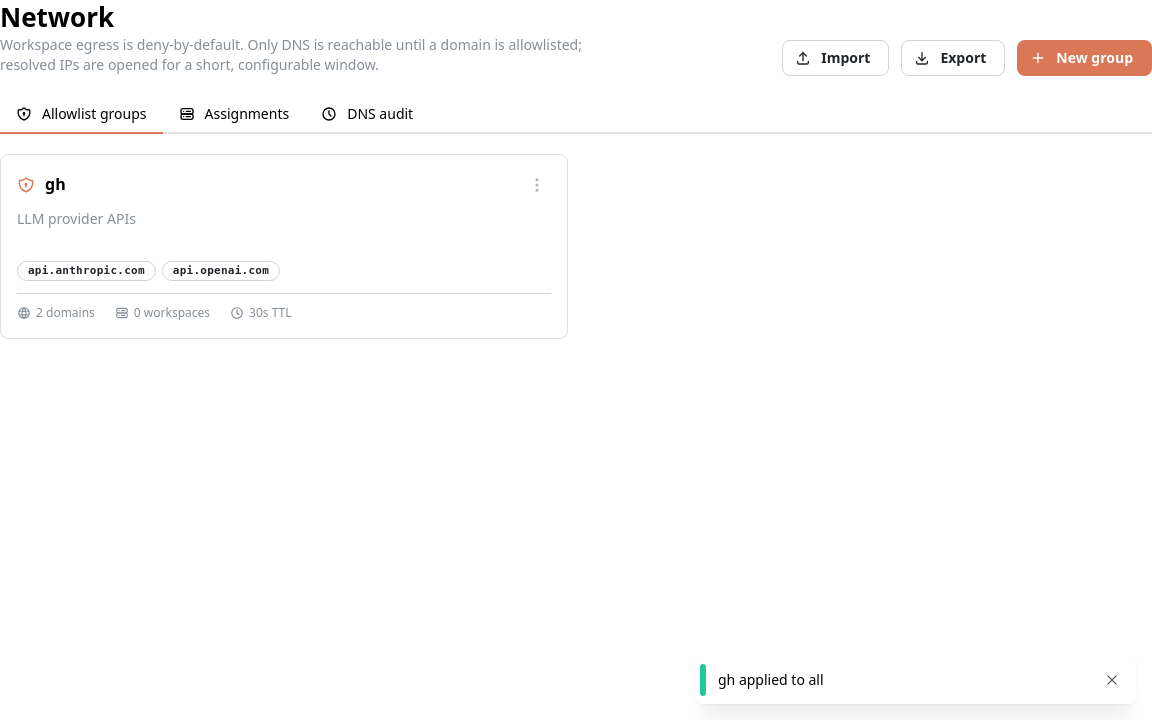
Scenario: NetworkView DNS audit › lists audit rows and opens add-to-group on a blocked domain
The image size is (1152, 720).
Click the tab "DNS audit".
click(367, 115)  # box [305, 96, 429, 134]
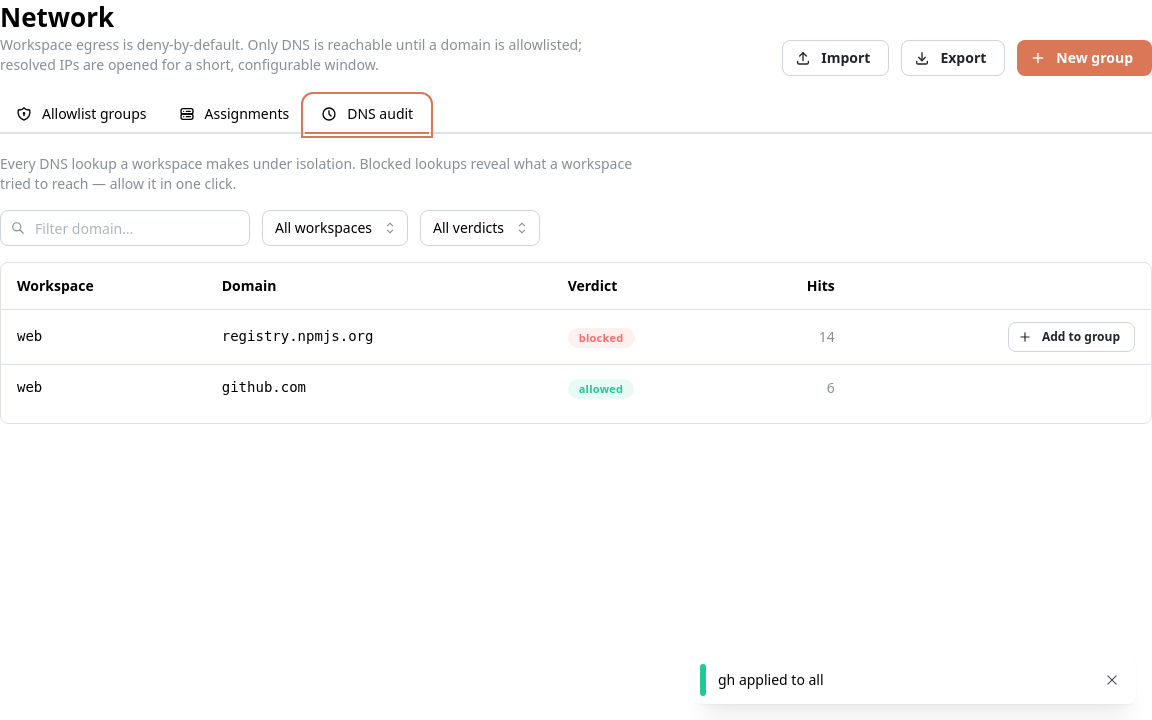
Expected: the text "registry.npmjs.org" is shown, [206, 310, 552, 364]
Expected: the number of buttons "Add to group" is 1
Click the button "Add to group".
click(1071, 337)  # box [1008, 322, 1135, 352]
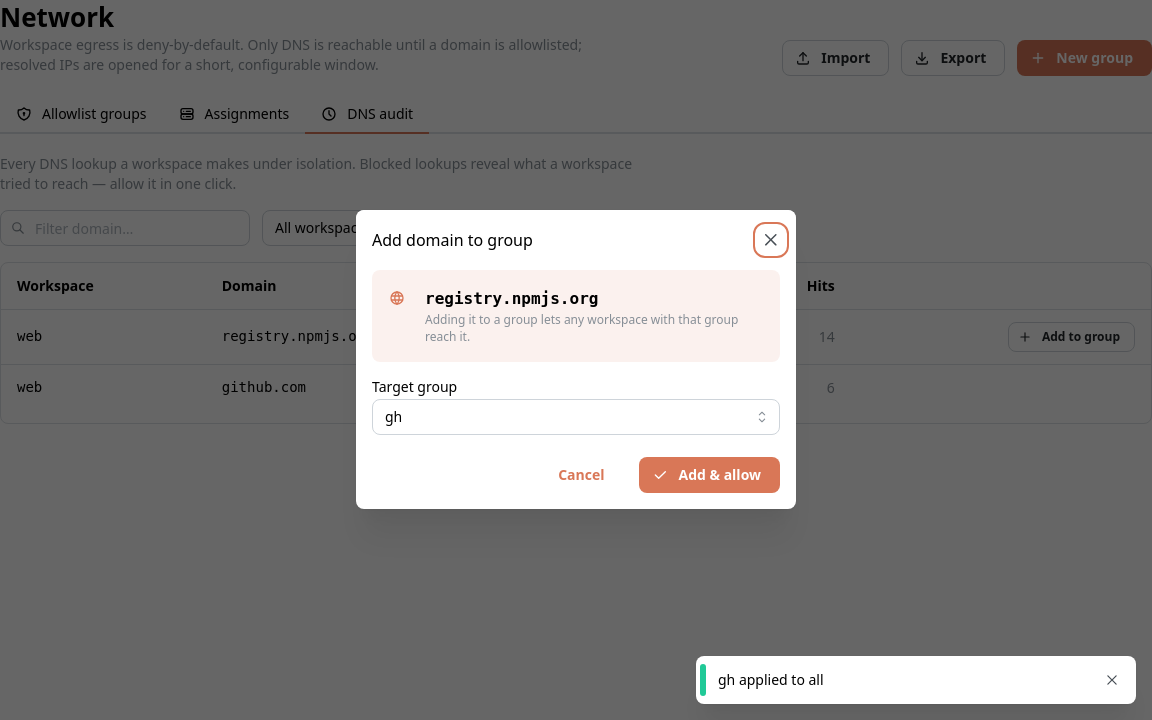
Expected: the dialog "Add domain to group" is shown, [356, 210, 796, 510]
